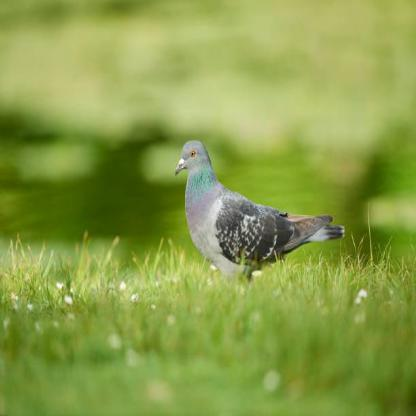Flying Rat: (169, 136, 354, 295)
